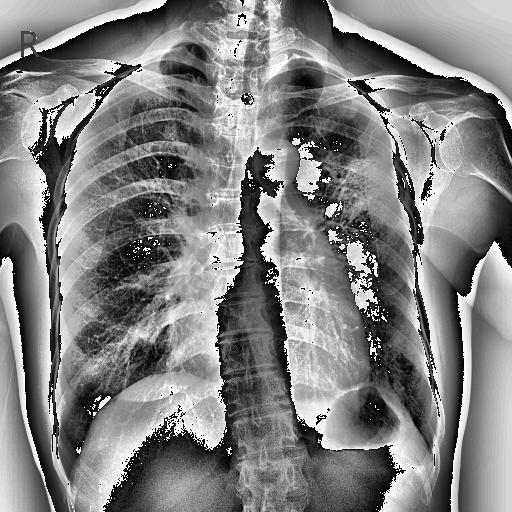0- Aortic enlargement: (258, 138, 300, 188)
5- ILD: (340, 155, 402, 233), (340, 157, 400, 225)
6- Infiltration: (340, 155, 402, 233), (334, 159, 392, 210)
8- Nodule-Mass: (340, 101, 358, 117)
